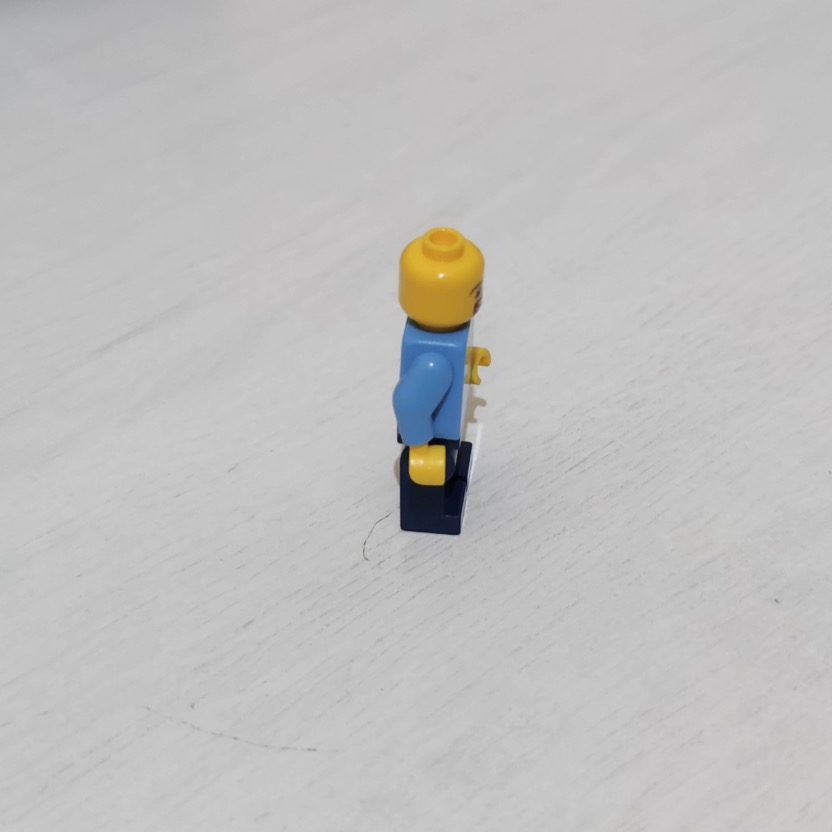lego: (392, 227, 492, 536)
